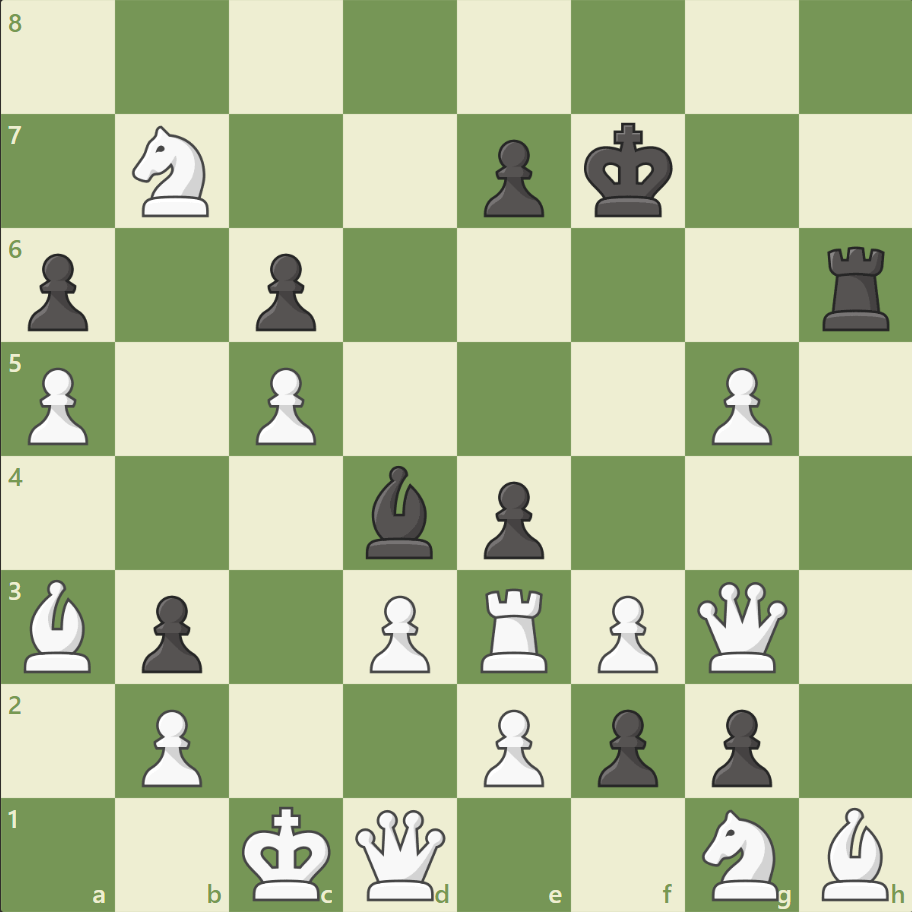B: (812, 801, 896, 904), (17, 574, 101, 676)
K: (238, 798, 338, 906)
N: (124, 121, 222, 223), (692, 802, 789, 904)
P: (20, 359, 95, 450), (247, 359, 322, 450), (701, 359, 776, 450), (133, 700, 208, 791), (474, 700, 549, 791), (361, 586, 435, 677), (588, 586, 662, 677)
Q: (691, 576, 790, 676), (351, 804, 450, 903)
R: (473, 579, 556, 676)
b: (358, 460, 442, 563)
k: (579, 117, 679, 225)
p: (474, 132, 549, 223), (20, 246, 95, 337), (247, 246, 322, 337), (474, 473, 549, 564), (133, 586, 208, 677), (701, 700, 776, 791), (588, 700, 662, 791)
r: (814, 239, 897, 336)
